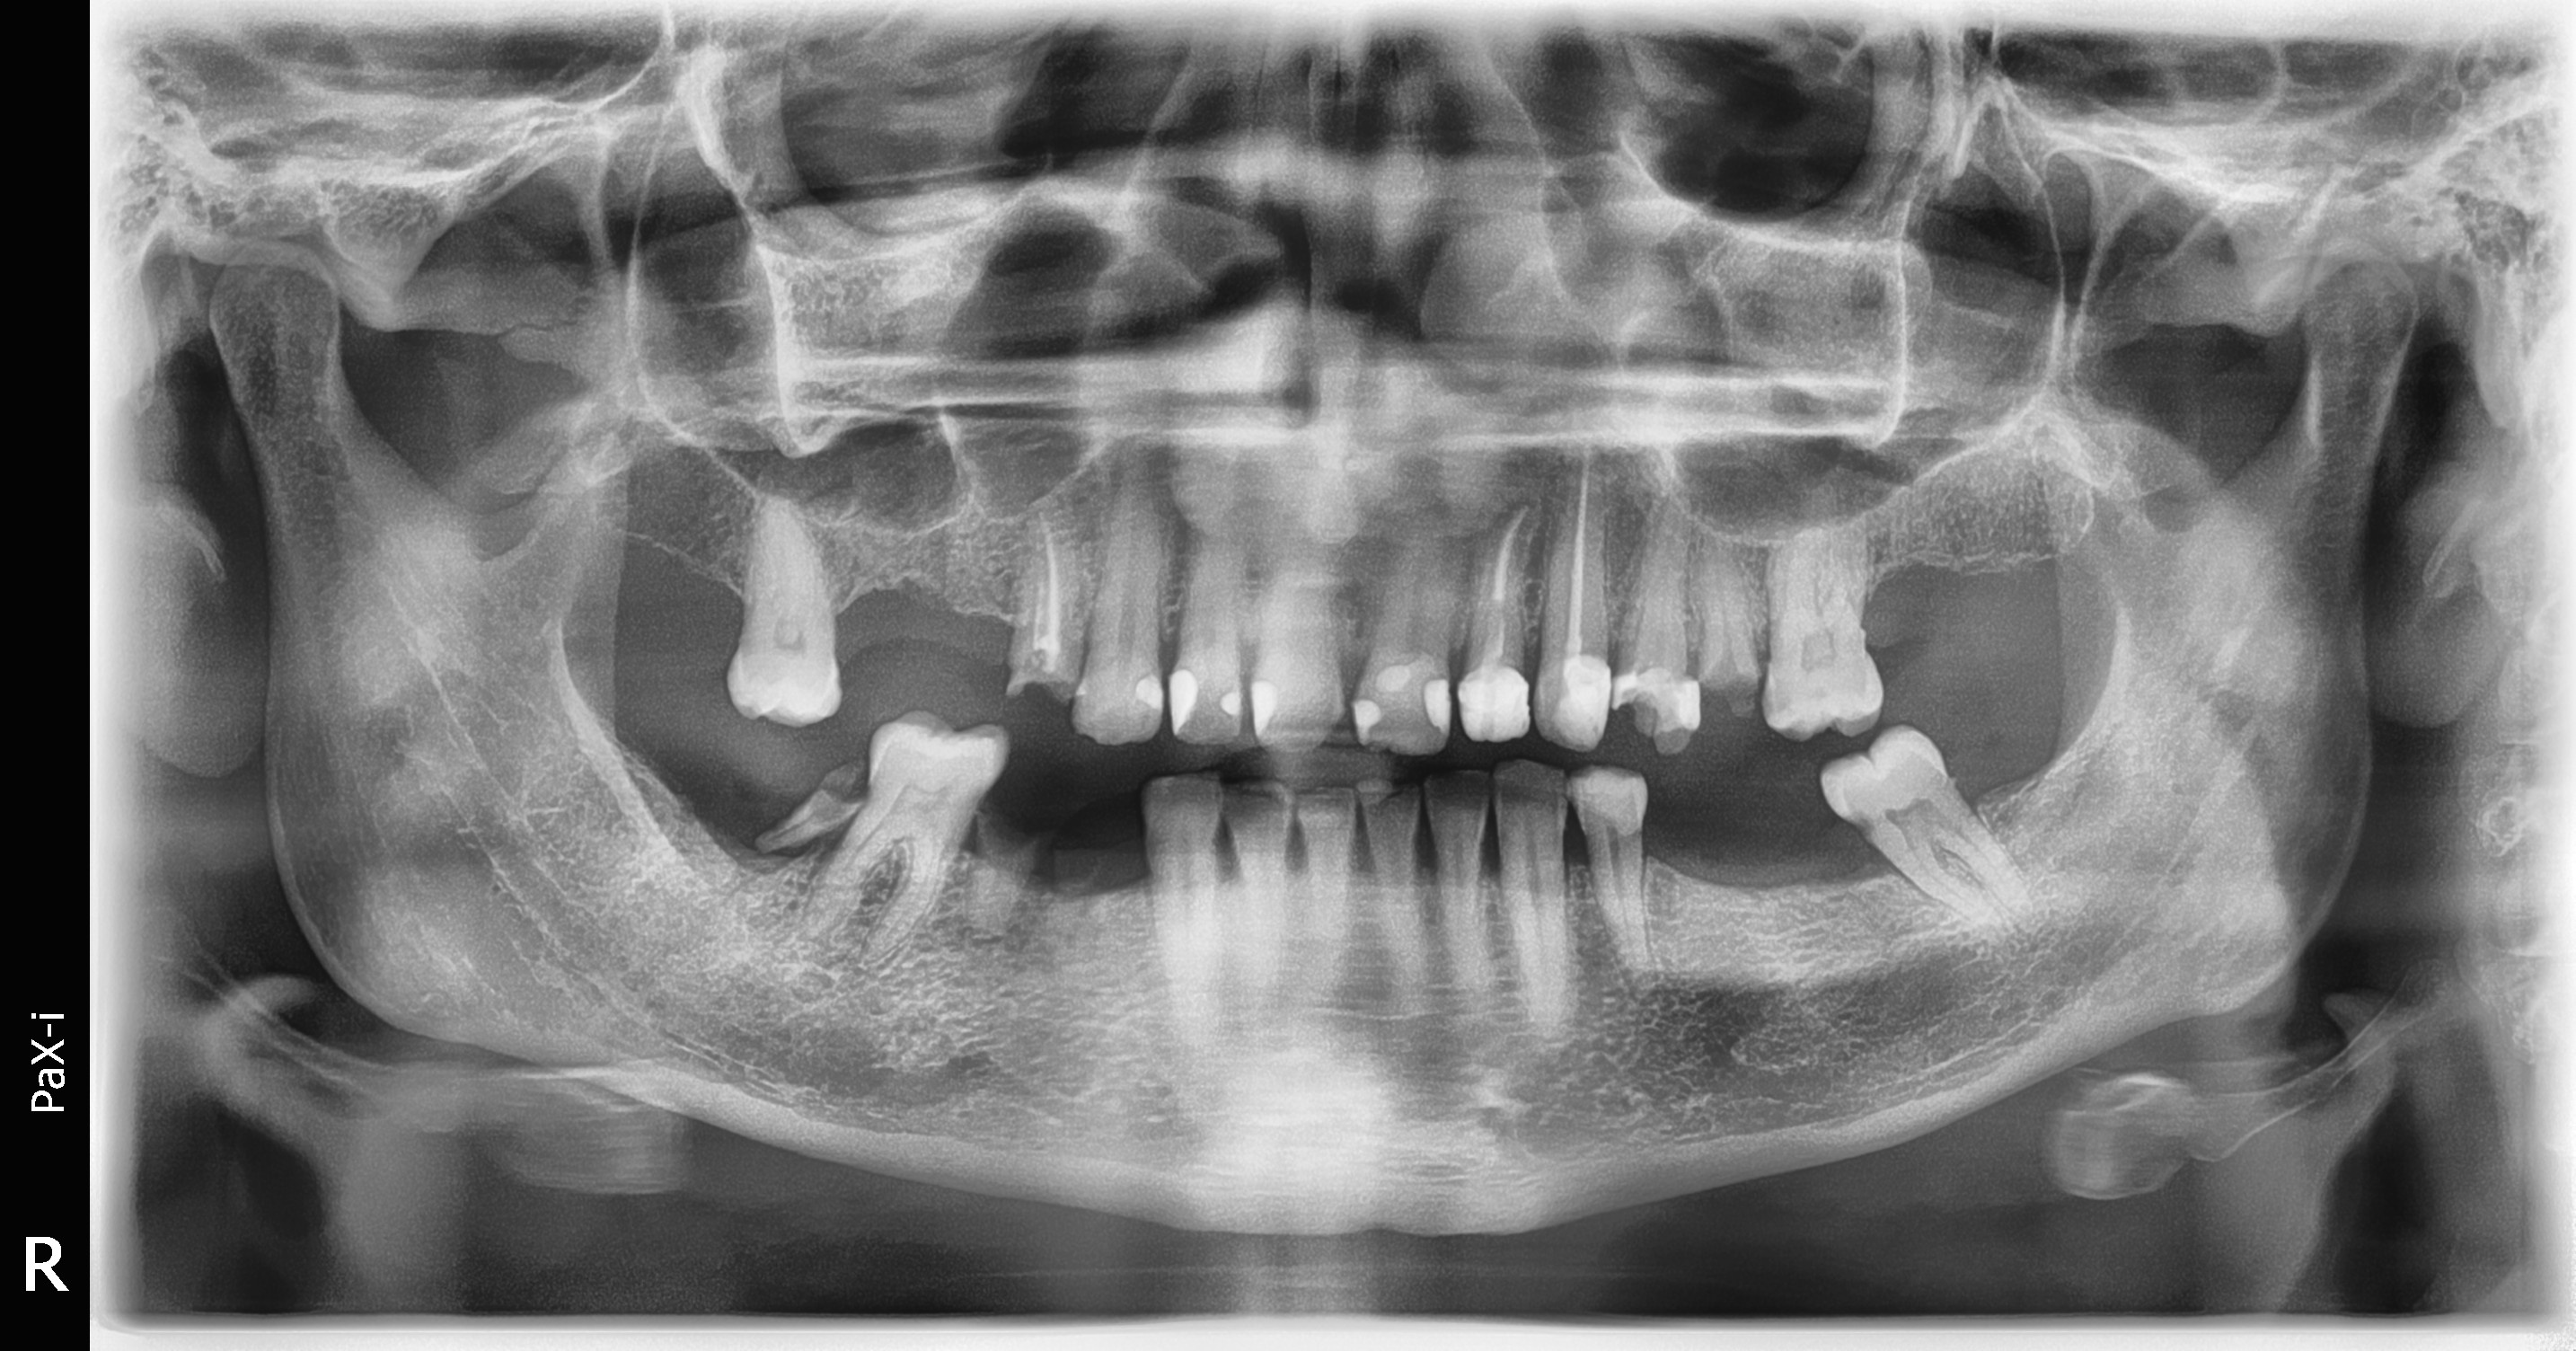CAR: (1818, 792, 1905, 852), (992, 661, 1080, 710)
END: (1540, 434, 1610, 659), (1014, 504, 1078, 673), (1472, 497, 1530, 646)
OBT: (1603, 659, 1717, 765), (1528, 639, 1629, 753), (1446, 656, 1530, 748), (1159, 649, 1216, 755), (1240, 663, 1303, 758), (1111, 659, 1186, 726), (1341, 687, 1399, 772), (1343, 658, 1460, 698), (1406, 676, 1467, 739), (1203, 673, 1262, 731)
ROT: (949, 792, 1061, 946), (1687, 525, 1770, 721), (729, 782, 891, 879)
